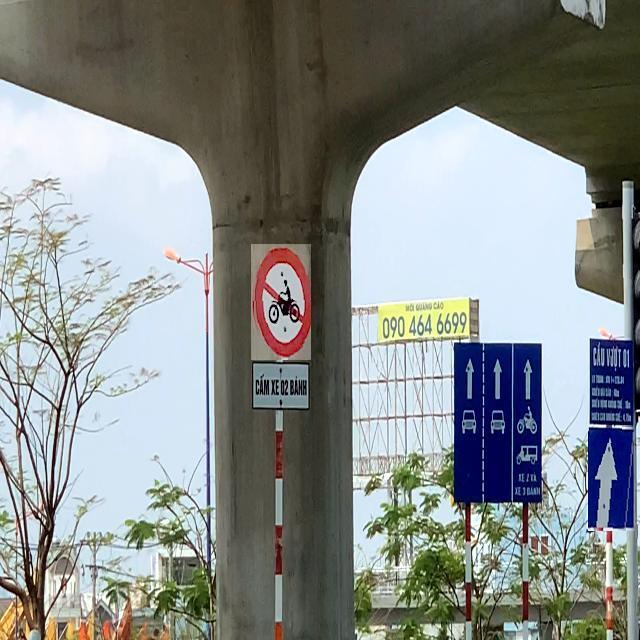P-104: (251, 244, 311, 360)
R-407a: (588, 425, 635, 531)
